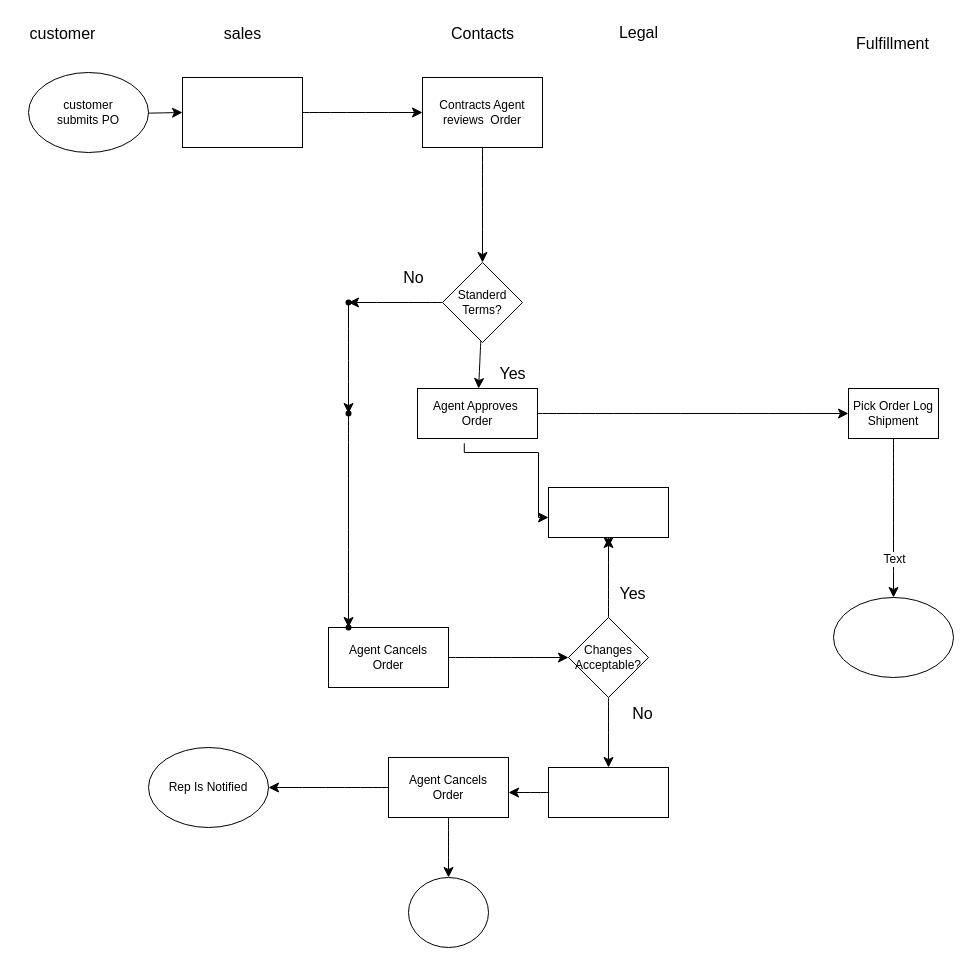
Some shapes in this 971 by 965 pixel diagram are drawn without their labels. The centre of each missing label's shape, as x and y in pixels:
Attorney Marks it Ok ,Returns to Agent: (608,512)
Attorney Marks it OK,Returns to Agent: (608,792)
Order Is Not Shipped: (448,912)
Order Is shipped: (893,637)
Rep logs PO enters order: (242,112)
